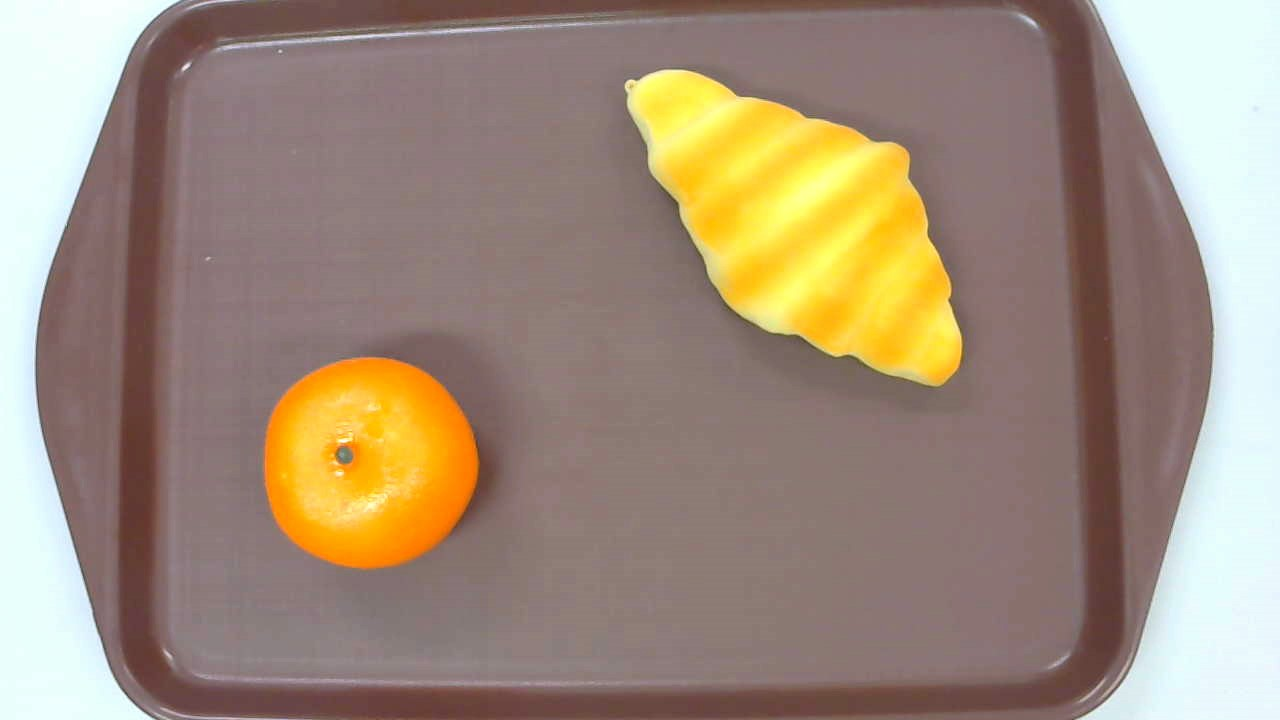croissant: (625, 67, 963, 387)
orange: (263, 355, 479, 569)
